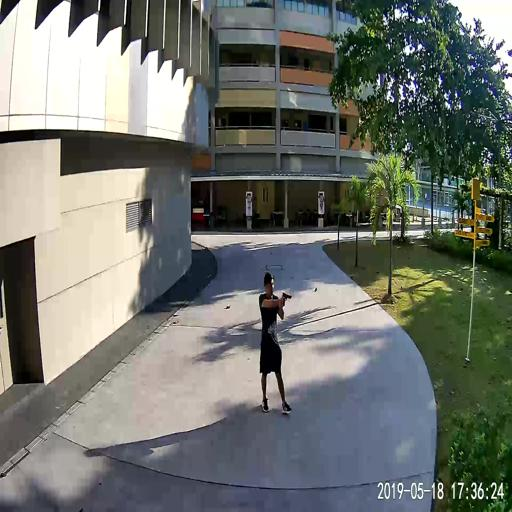pistol: (281, 290, 292, 303)
